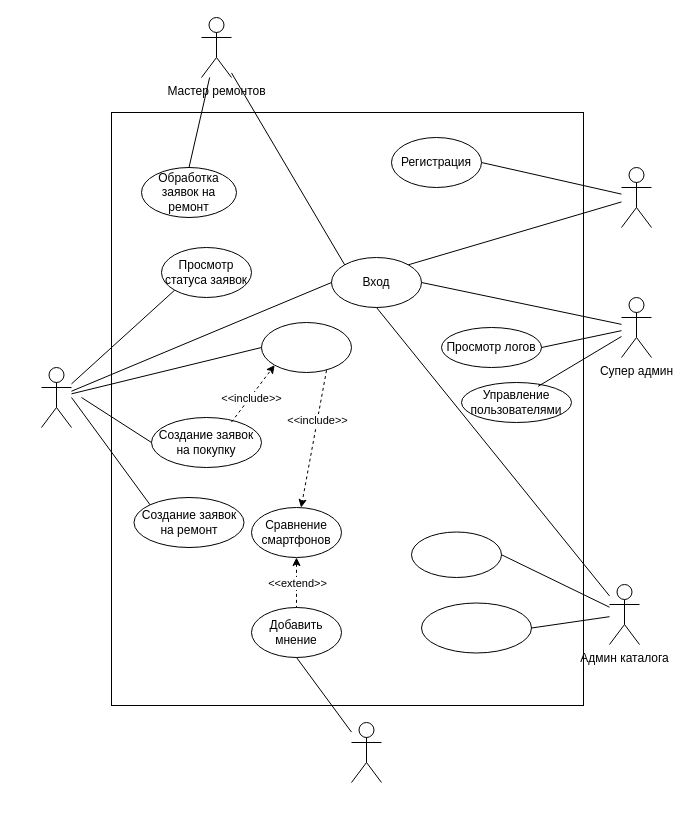
Some shapes in this 690 by 821 pixel diagram are drawn without their labels. Each missing label, with the centre of its shape:
Гость: [636,197]
Народный эксперт: [366,752]
Обработка заявок на покупку: [476,627]
Пользователь: [56,397]
Просмотр каталога: [306,347]
Управление каталогом: [456,554]
